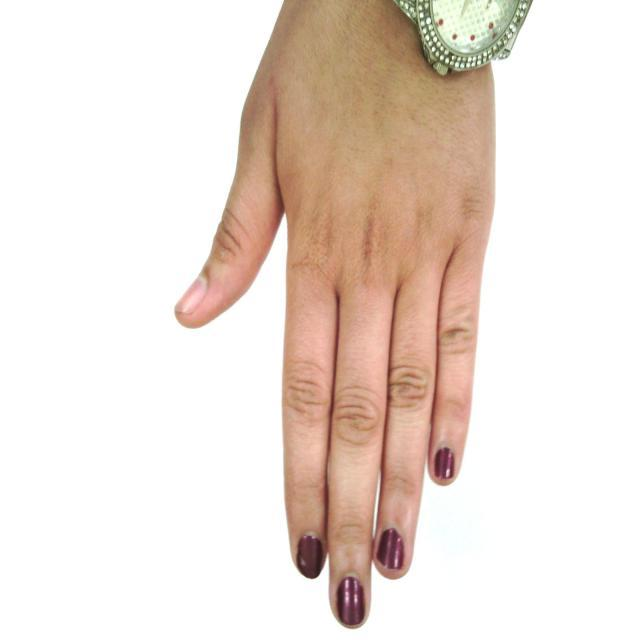Fingernail: (337, 576, 365, 627), (176, 275, 206, 313), (377, 529, 404, 570), (298, 535, 322, 578), (434, 447, 455, 480)
